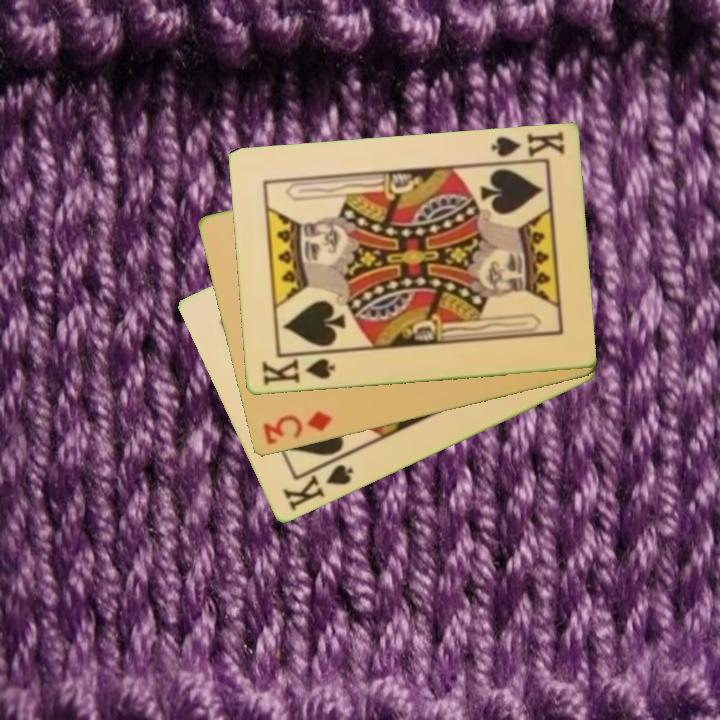3d: (259, 407, 335, 448)
Ks: (279, 454, 357, 515), (486, 129, 567, 167), (258, 355, 337, 389)
